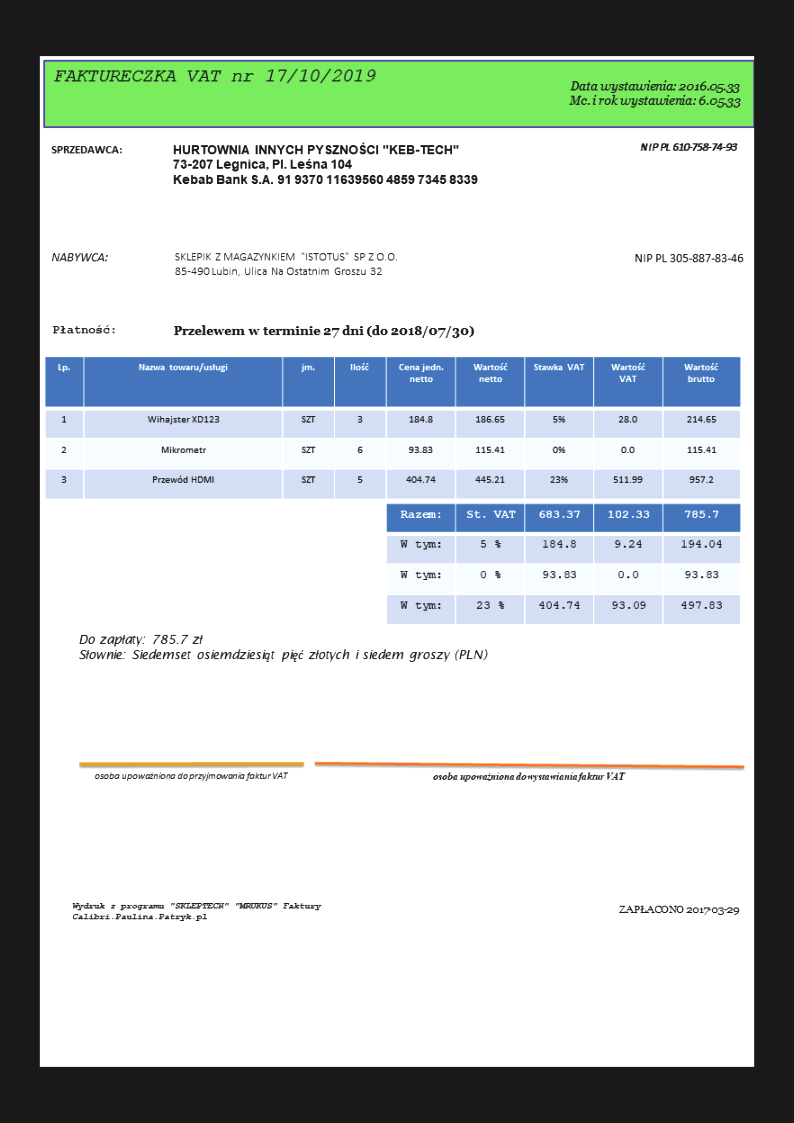Table: (43, 354, 742, 501), (384, 503, 743, 626)
TextBox: (170, 140, 481, 188), (76, 629, 490, 663), (51, 66, 377, 87), (172, 249, 400, 279), (70, 899, 324, 923), (566, 78, 743, 111), (171, 322, 474, 339), (93, 769, 291, 784), (430, 769, 626, 783), (616, 902, 740, 917), (631, 250, 745, 266), (638, 139, 740, 154), (49, 142, 124, 156), (50, 322, 117, 336), (50, 249, 109, 263)
